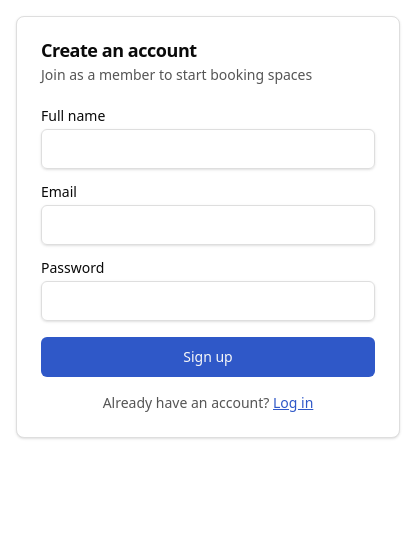
RegisterPage › shows validation errors for a short name, invalid email, and weak password
The width and height of the screenshot is (417, 534).
Type "A" into the field labelled "Full name".
click(208, 149); type("A")  # box [41, 129, 375, 169]
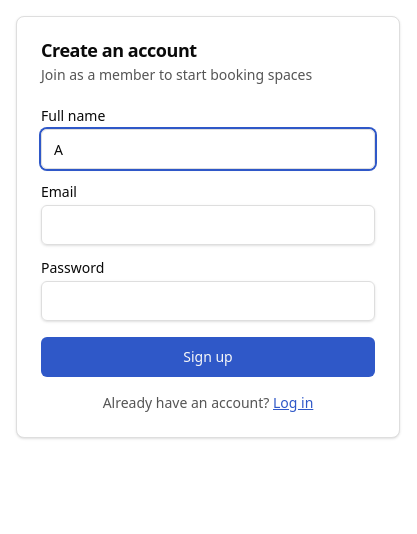
Type "not-an-email" into the field labelled "Email".
click(208, 225); type("not-an-email")  # box [41, 205, 375, 245]
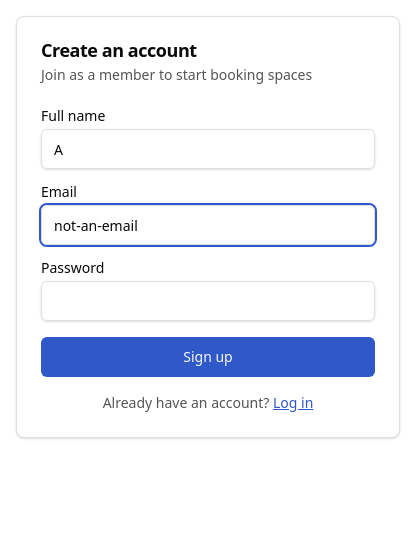
Type "weak" into the password field labelled "Password".
click(208, 301); type("weak")  # box [41, 281, 375, 321]
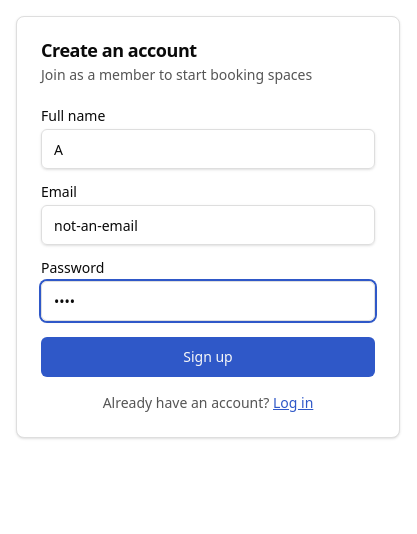
Click the button "Sign up".
click(208, 357)  # box [41, 337, 375, 377]
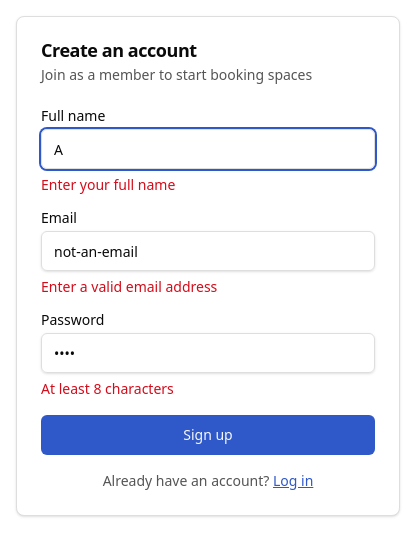
expect the text "Enter your full name" is shown: met, box [41, 175, 175, 194]
expect the text "Enter a valid email address" is shown: met, box [41, 277, 217, 296]
